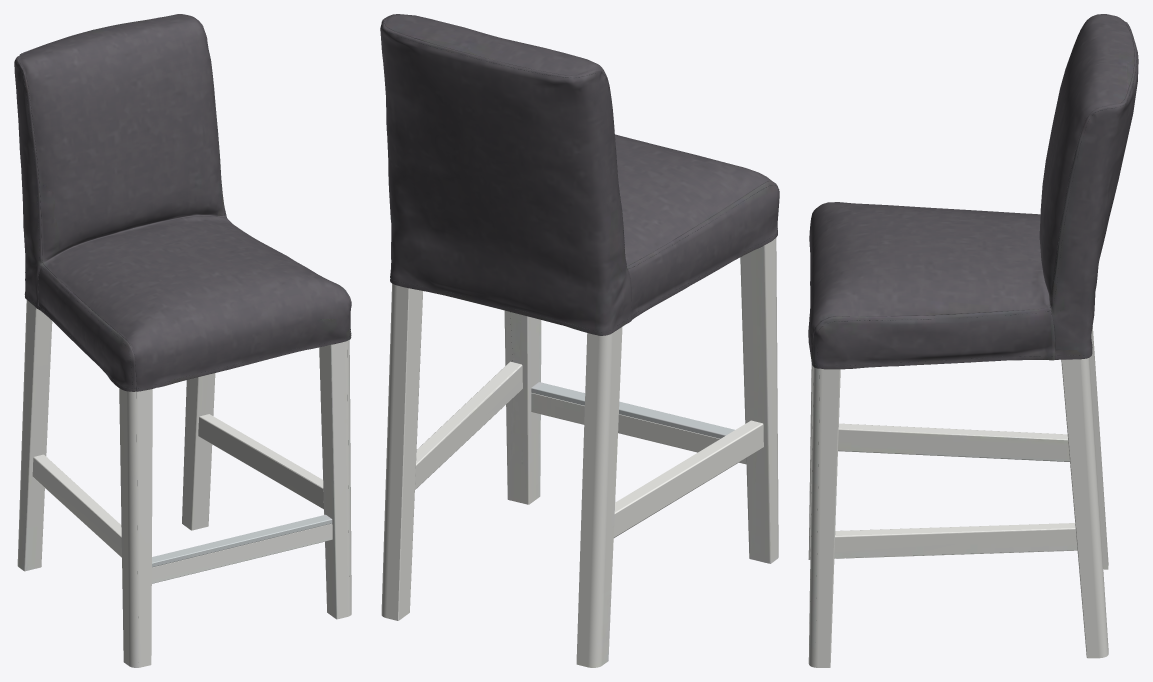
File: 24 - BERGMUND - 吧台椅附靠背, 櫃檯高度 白色Gunnared中灰色, 62 公分 IKEA 線上購物.glb
3 renders of one model, left to right at view 1: azimuth 30°, elevation 25°; view 2: azimuth 150°, elevation 25°; view 3: azimuth 270°, elevation 25°, orthographic. The views are drawn at different scales.
Visible parts, largest first — view 1: 89384684; view 2: 89384684; view 3: 89384684.
Boxes of the visible parts, bbox=[...] form: 89384684: bbox=[14, 14, 351, 667]; 89384684: bbox=[380, 14, 779, 667]; 89384684: bbox=[808, 14, 1138, 667].
Bounding box in the file's own units: 0.4582 × 0.9774 × 0.5283.
Materials: 1 (1 with a texture image).
